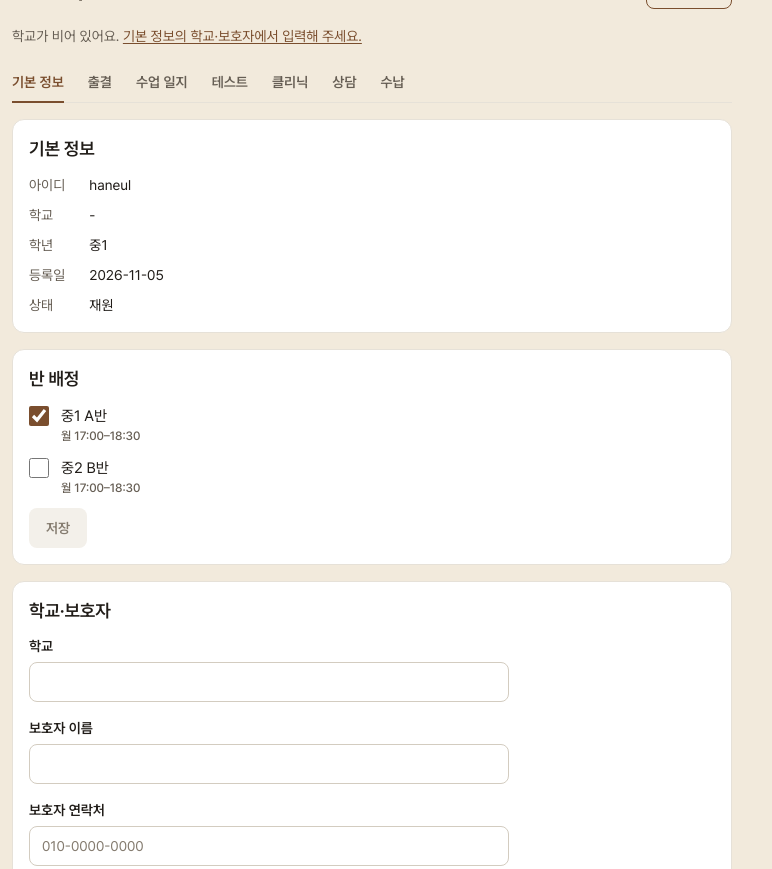
Scenario: StudentDetailScreen › formats the guardian phone while typing and saves
Step 1. Type "01012345678" into the field labelled "보호자 연락처" → (269,846), box 29,826 -> 509,866
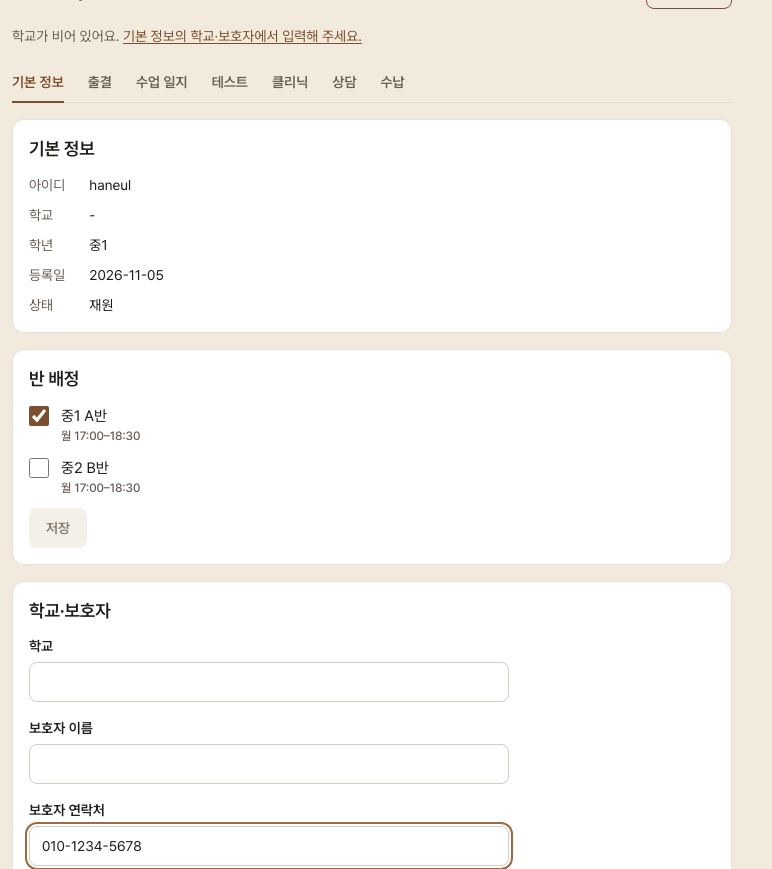
Result: the field labelled "보호자 연락처" holds "010-1234-5678" at 29,826 -> 509,866
Step 2. Type " 희수중 " into the field labelled "학교" → (269,682), box 29,662 -> 509,702
(page scrolled)
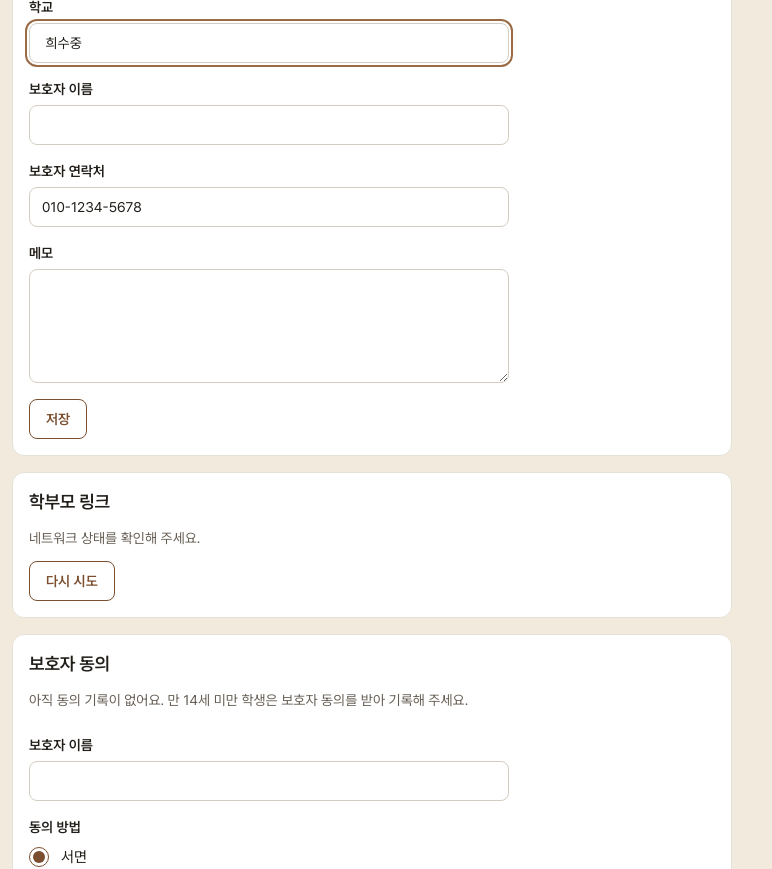
Step 3. Click the button "저장" → (58,419), box 29,399 -> 87,439
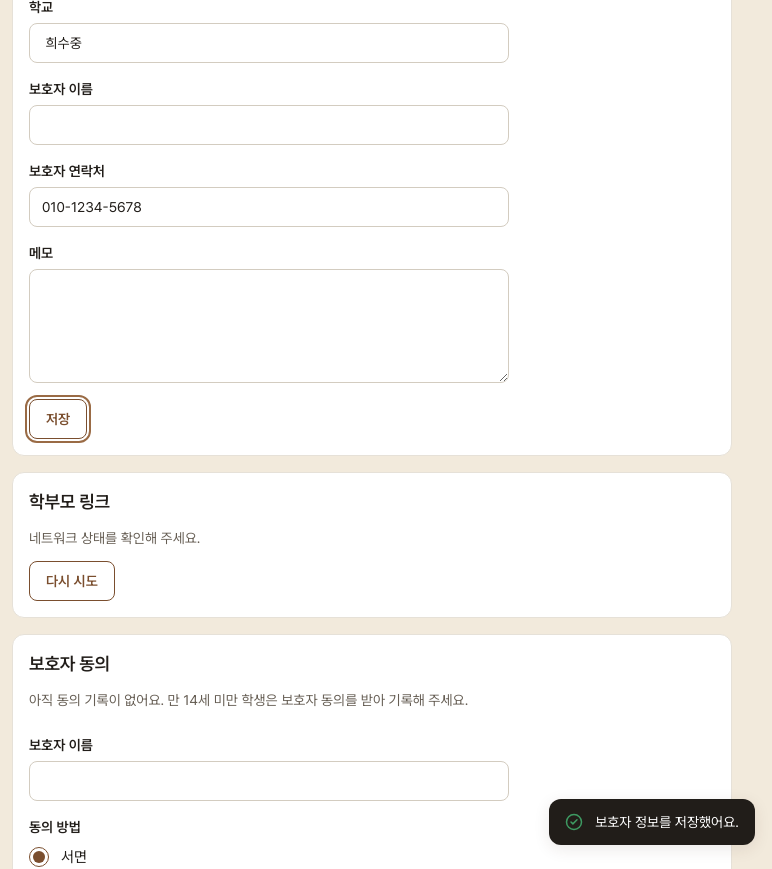
Result: the text "보호자 정보를 저장했어요." is shown at 595,811 -> 739,833
